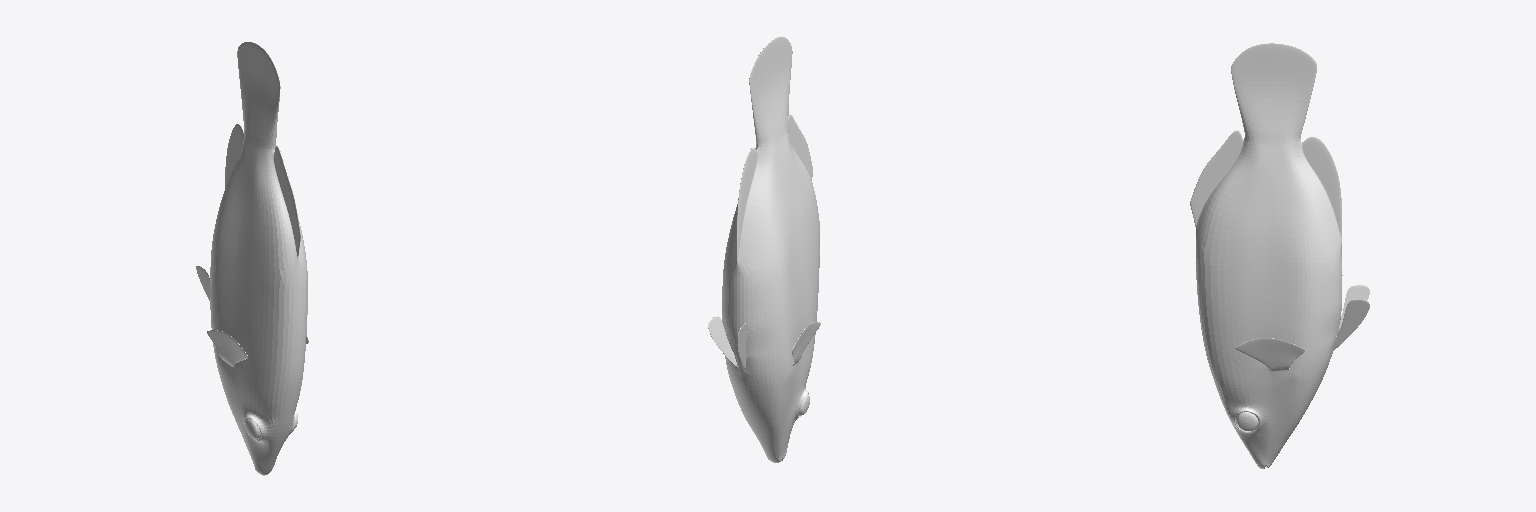
The model's file is 13014_Six_Line_Wrasse_v1_l3.obj.
3 renders of one model, left to right at view 1: azimuth 30°, elevation 25°; view 2: azimuth 150°, elevation 25°; view 3: azimuth 270°, elevation 25°, orthographic.
Visible parts, largest first — view 1: 13014_Six_Line_Wrasse_v1; view 2: 13014_Six_Line_Wrasse_v1; view 3: 13014_Six_Line_Wrasse_v1.
Part boxes in pixels (left/top/right/bottom): 13014_Six_Line_Wrasse_v1: left=196, top=42, right=308, bottom=475; 13014_Six_Line_Wrasse_v1: left=708, top=36, right=820, bottom=462; 13014_Six_Line_Wrasse_v1: left=1190, top=43, right=1369, bottom=468.
Bounding box in the file's own units: 1.29 × 7.13 × 2.73.